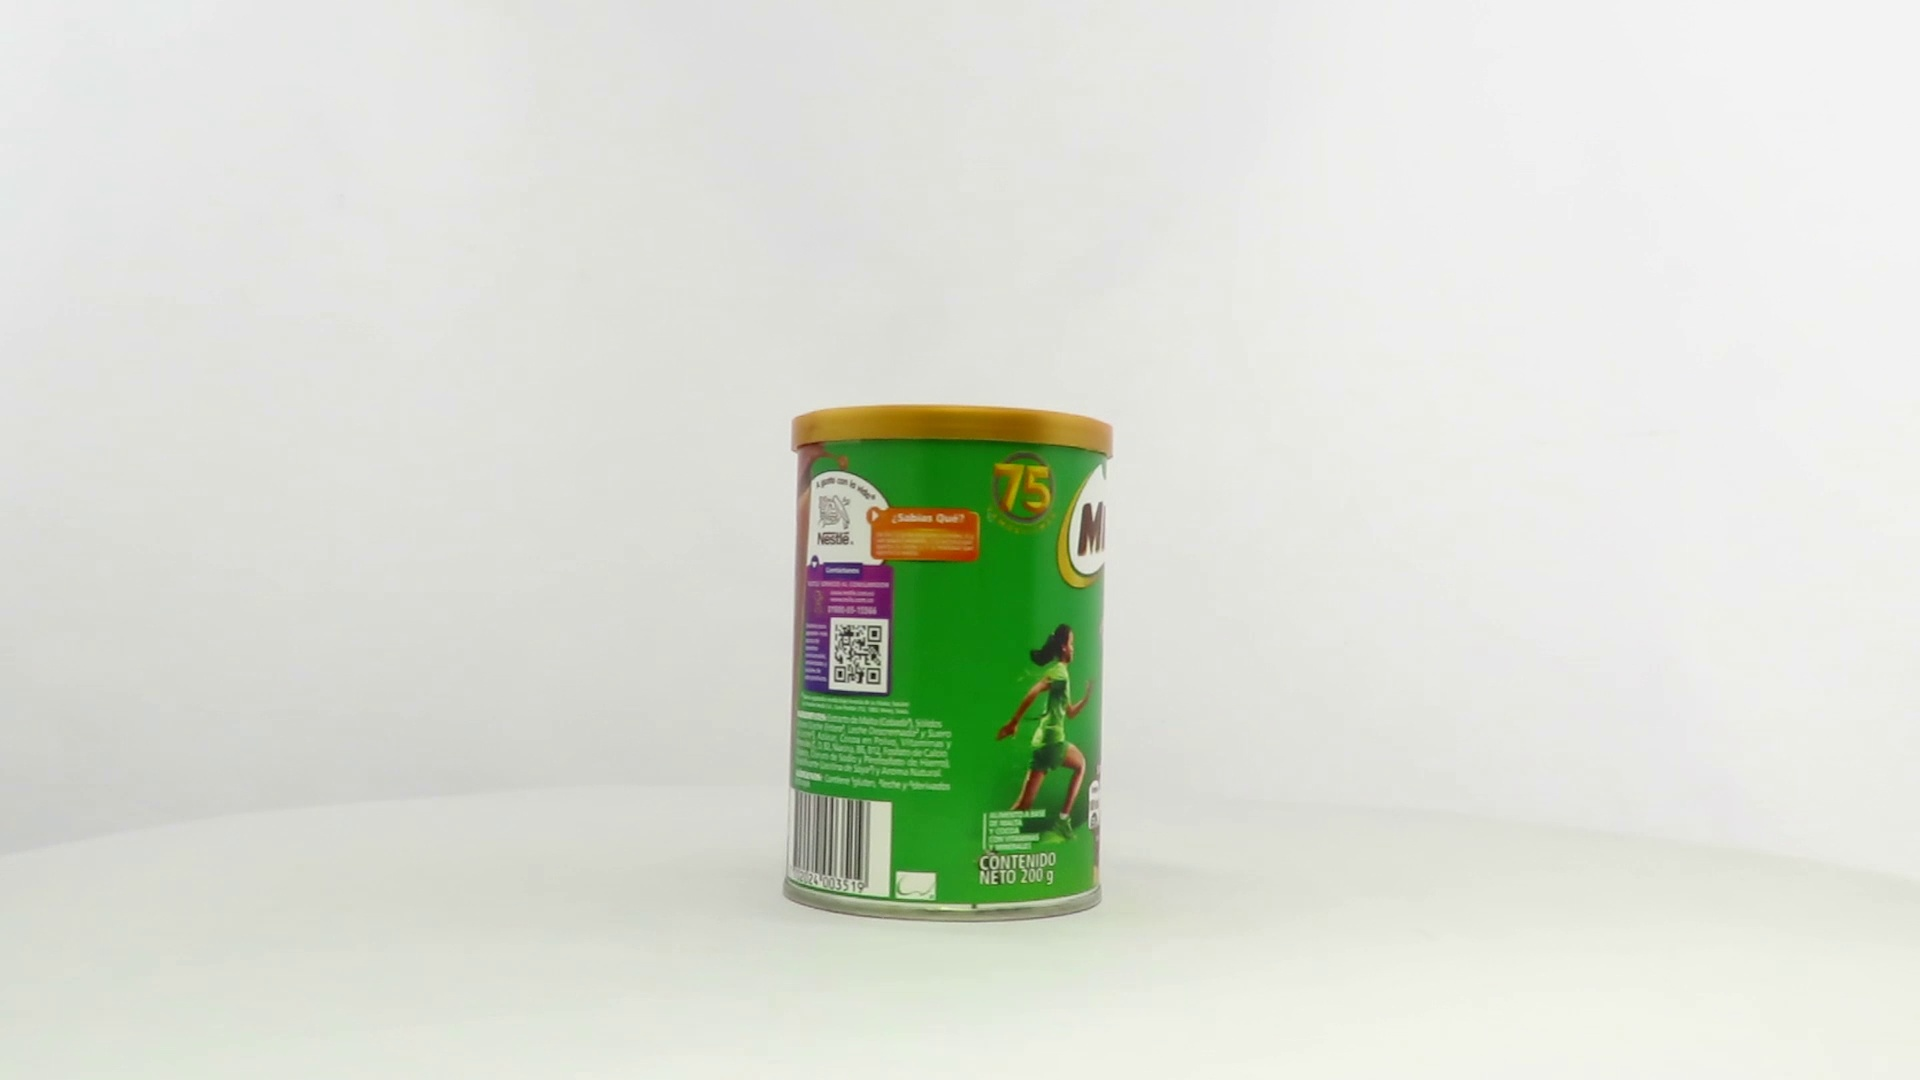COL0170203LAT20000: (777, 400, 1120, 928)
